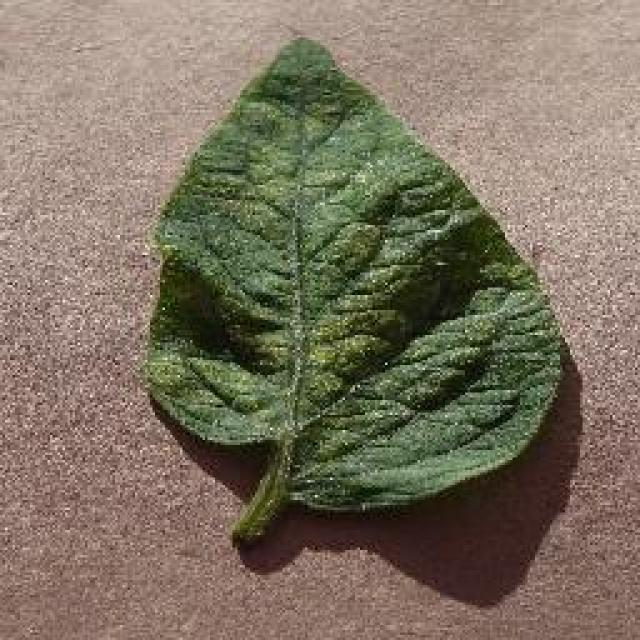Tomato spider mites leaf: (147, 28, 562, 515)
